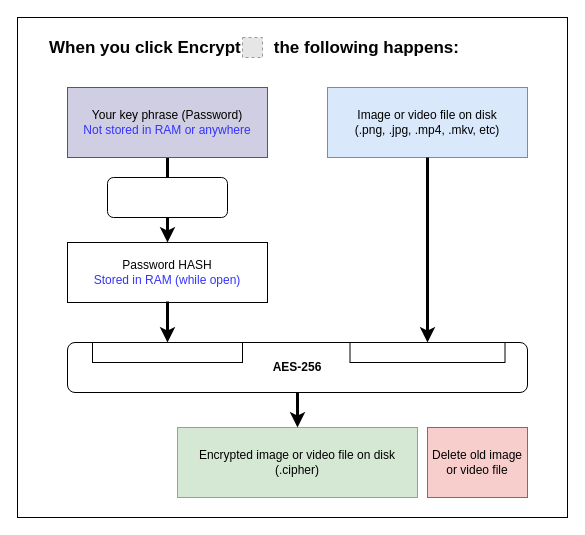
Image size: 585x535. Some labels were removed from this diagram. Grey dashed boxes stand in for pictures. Here are the shapes that lost their labels. From the top down, the centre of each, then its label:
At pixel 167 197: "SHA-256".
At pixel 167 352: "Cipher Key".
At pixel 427 352: "Ciphertext".
